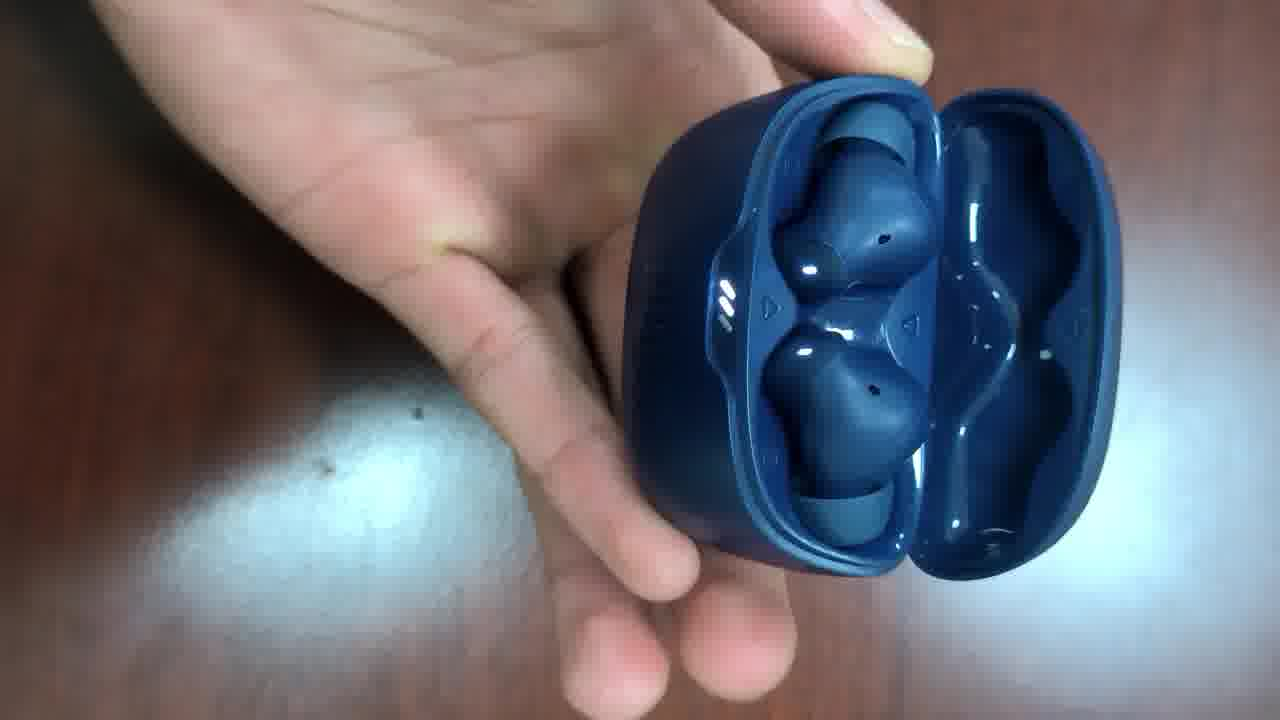Case: (621, 76, 1120, 579)
Earbud: (764, 325, 928, 545), (774, 102, 936, 303)
